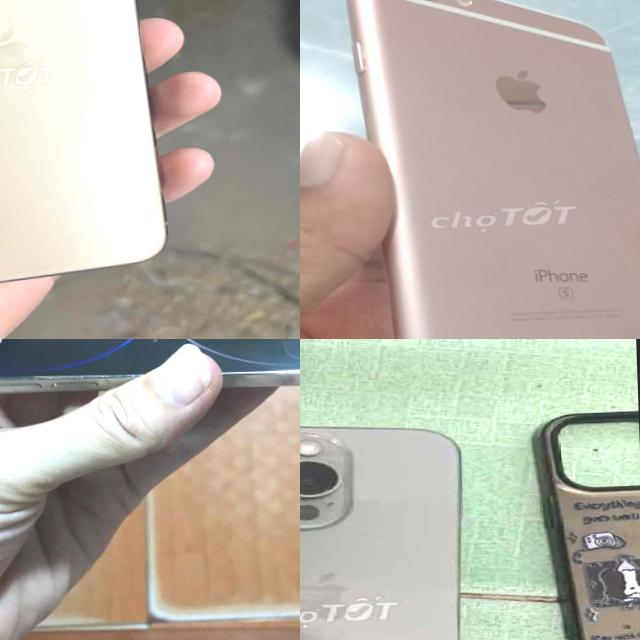gen_11: (0, 0, 176, 304)
gen_14: (0, 339, 300, 415)
gen_15: (300, 404, 495, 640)
gen_6: (331, 0, 640, 339)
